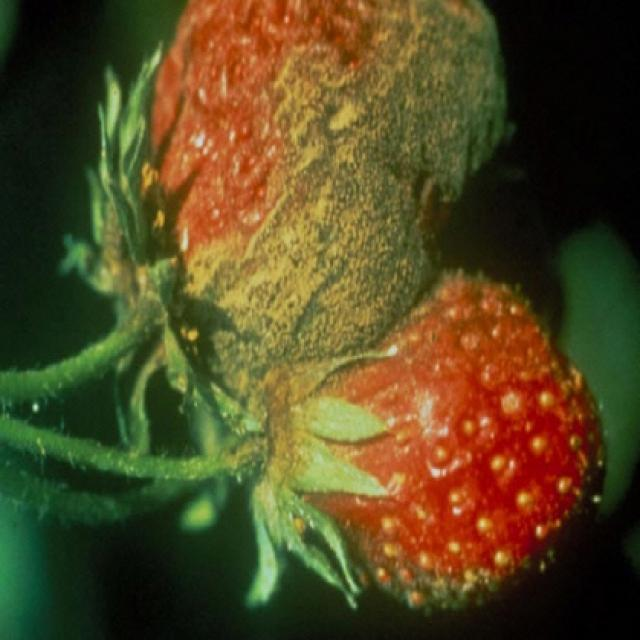Gray Mold: (83, 0, 506, 433), (228, 267, 611, 614)
